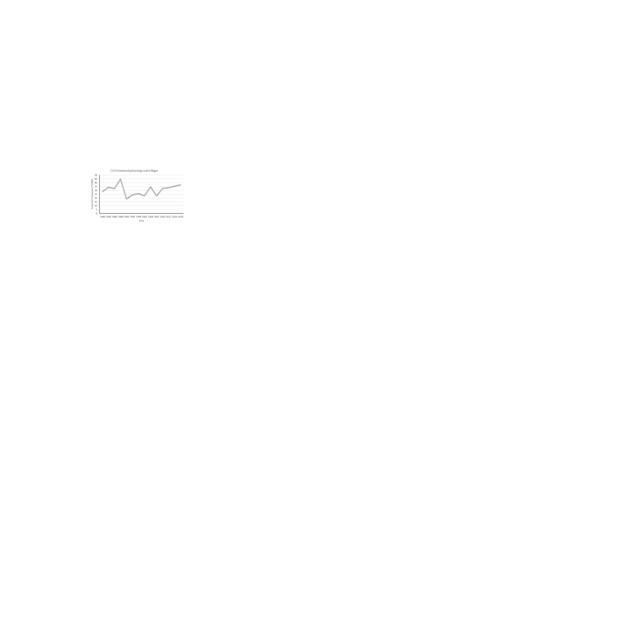Graph: (90, 167, 185, 223)
